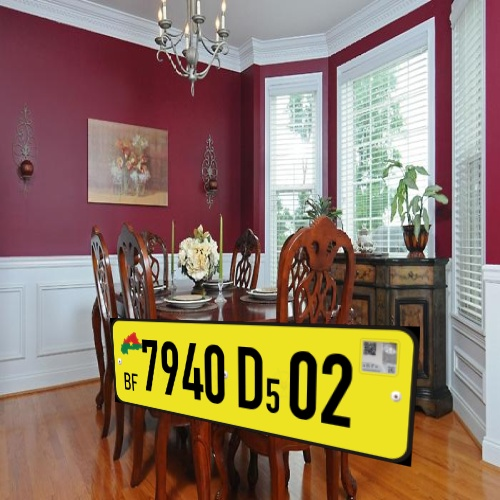plate: (91, 307, 431, 483)
